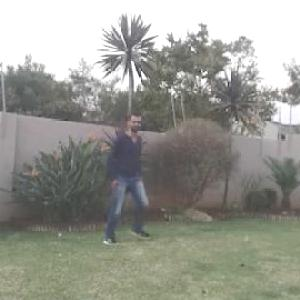follow: (106, 108, 144, 239)
